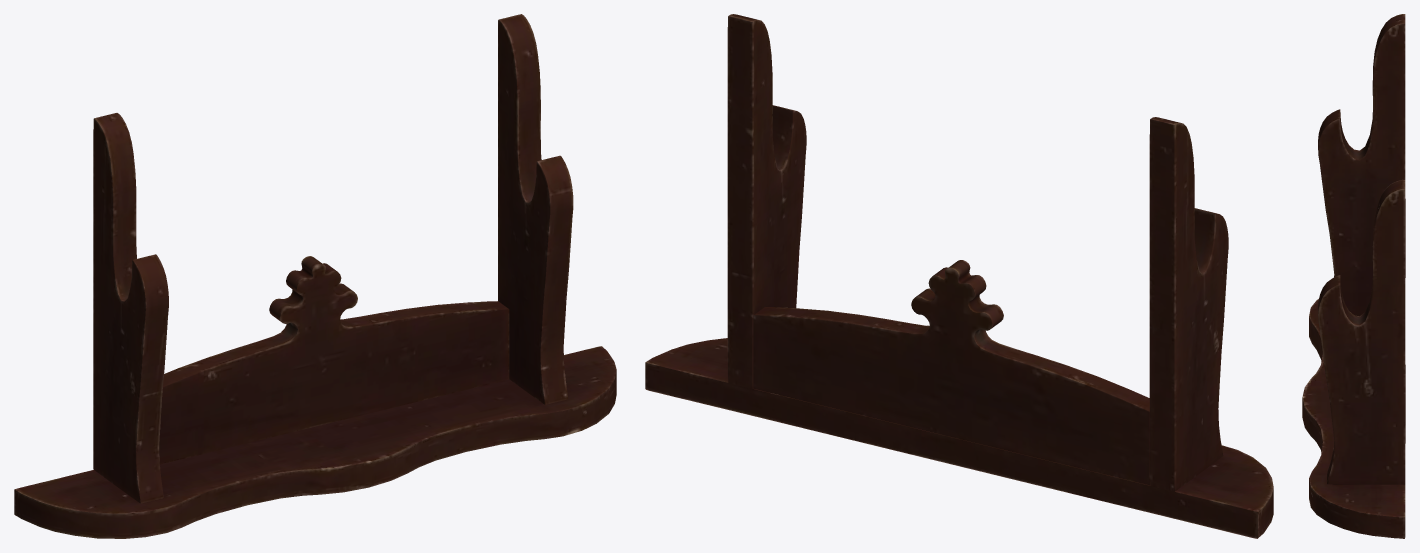
Rendered from katana_stand_01.b4e359a8.glb.
3 views of the same model, side by side, from view 1: azimuth 30°, elevation 25°; view 2: azimuth 150°, elevation 25°; view 3: azimuth 270°, elevation 25° (orthographic). The views are drawn at different scales.
Parts seen in each view (by area): view 1: katana_stand_01; view 2: katana_stand_01; view 3: katana_stand_01.
Boxes of the visible parts, x1,y1,x2,y2 form: katana_stand_01: [14, 14, 616, 538]; katana_stand_01: [645, 14, 1273, 538]; katana_stand_01: [1302, 14, 1405, 538].
Size of the model in its own units: 0.95 by 0.5843 by 0.1718.
Materials: 1 (1 with a texture image).
